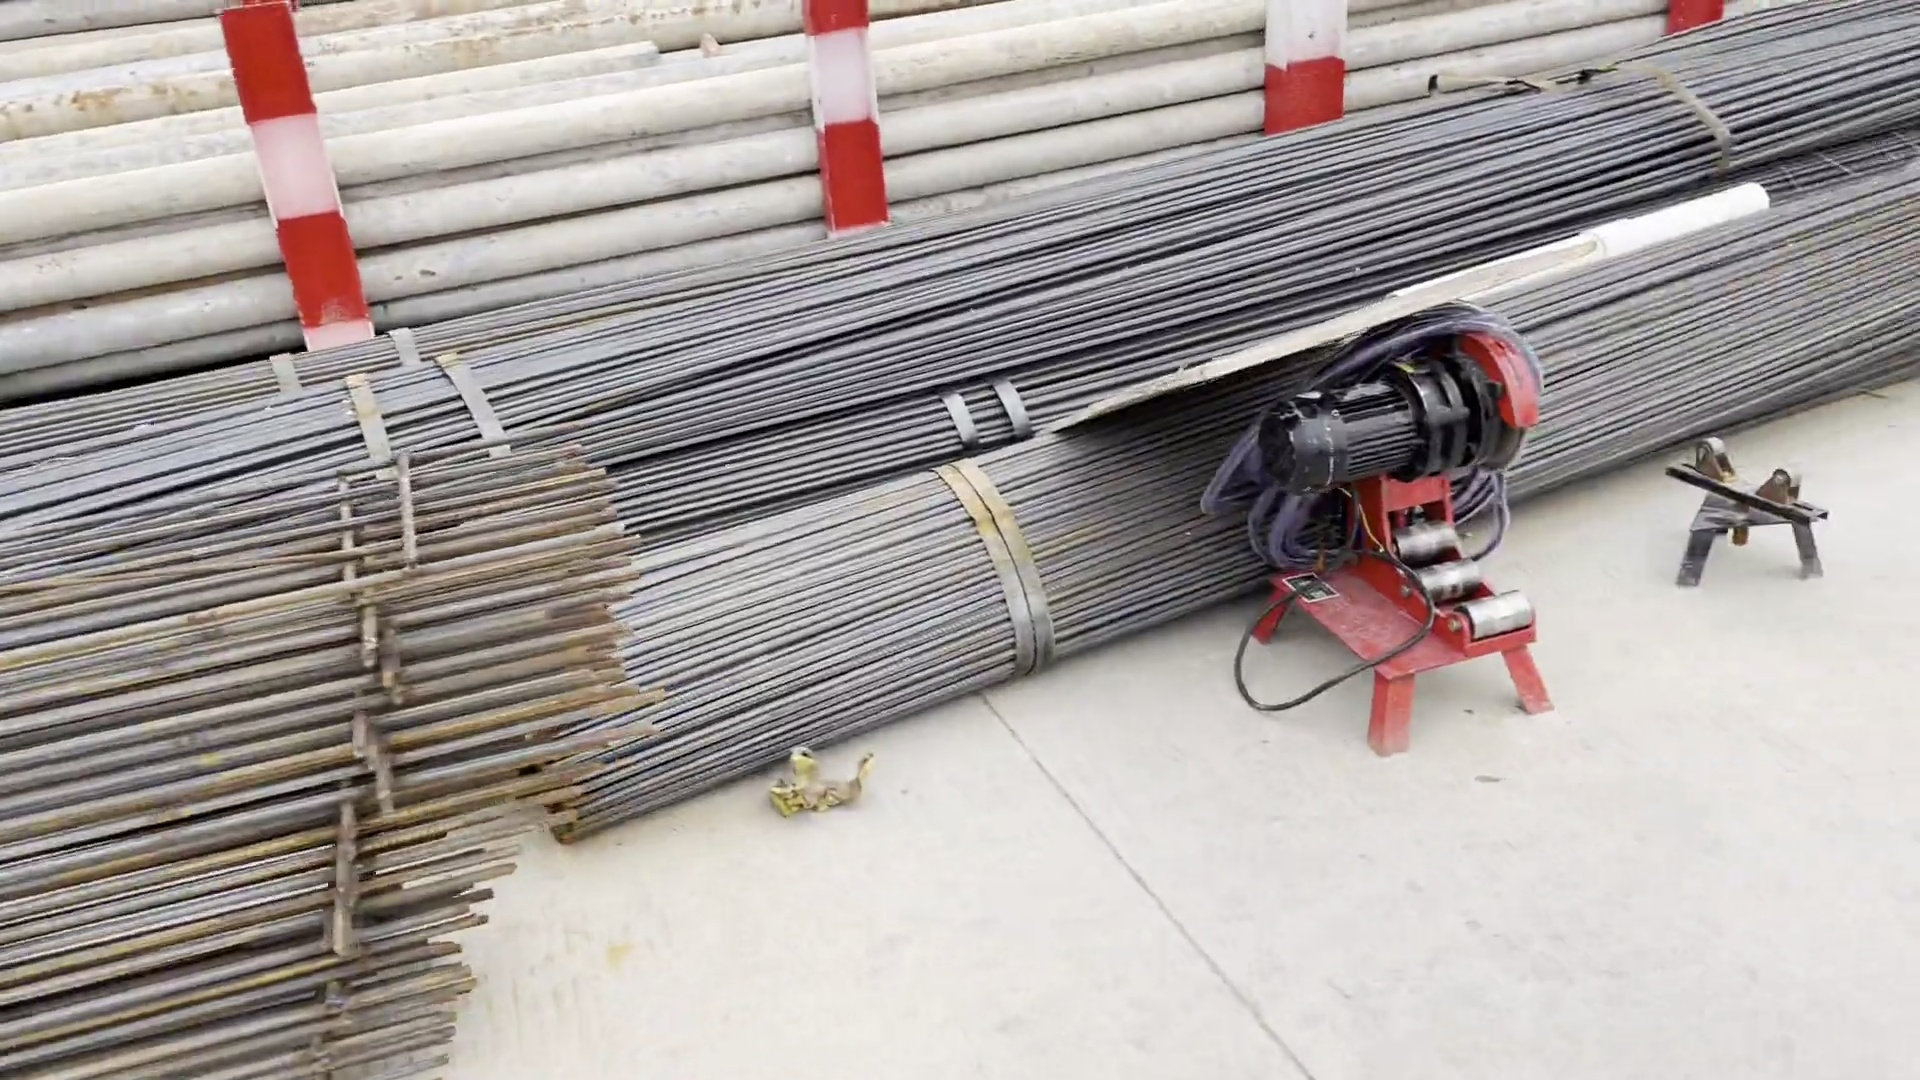rebar: (1, 314, 688, 1080), (589, 243, 1217, 812), (885, 78, 1673, 320), (1515, 65, 1920, 473)
